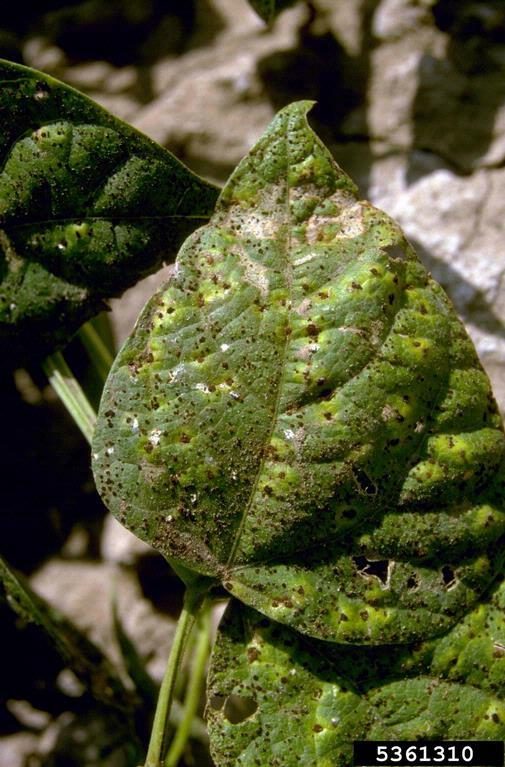StringBeans_BeanRust: (94, 105, 502, 627)
